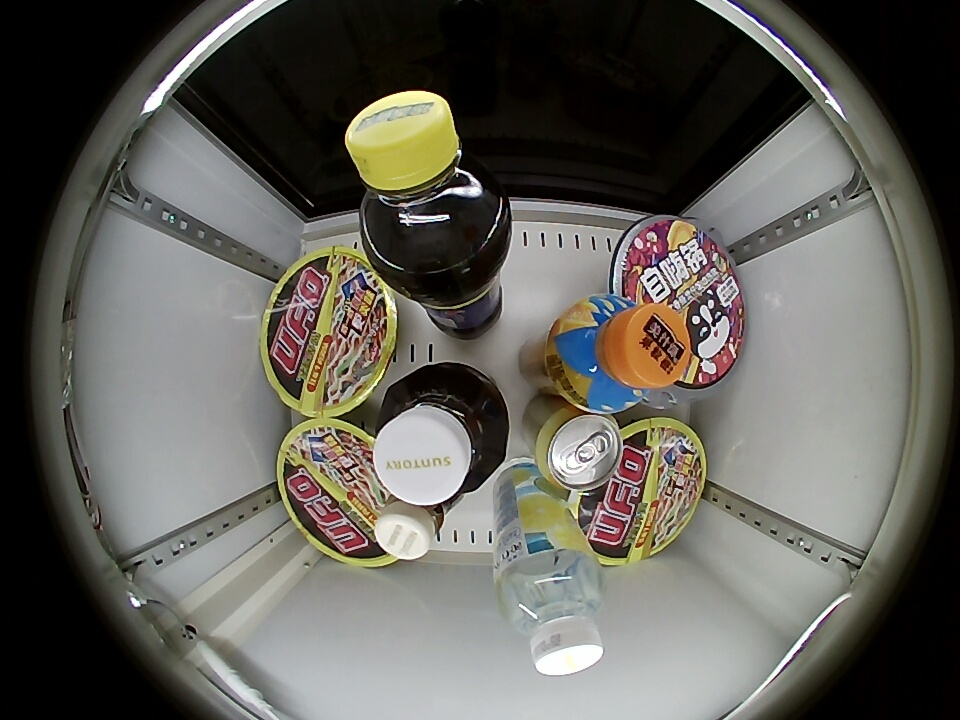baishikele: (346, 90, 499, 261)
guolicheng: (553, 296, 688, 413)
kafei: (373, 491, 465, 559)
mangguoxiaolao: (534, 407, 624, 492)
qinningshui: (495, 550, 606, 678)
ufo: (260, 246, 398, 417), (277, 417, 411, 566), (578, 416, 706, 563)
wulongcha: (372, 365, 511, 505)
zihaiguo: (620, 218, 743, 389)
